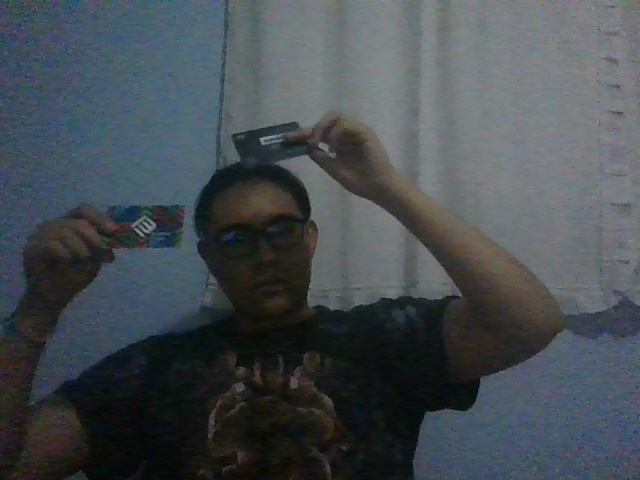tarjeta: (229, 121, 314, 171), (103, 202, 185, 250)
